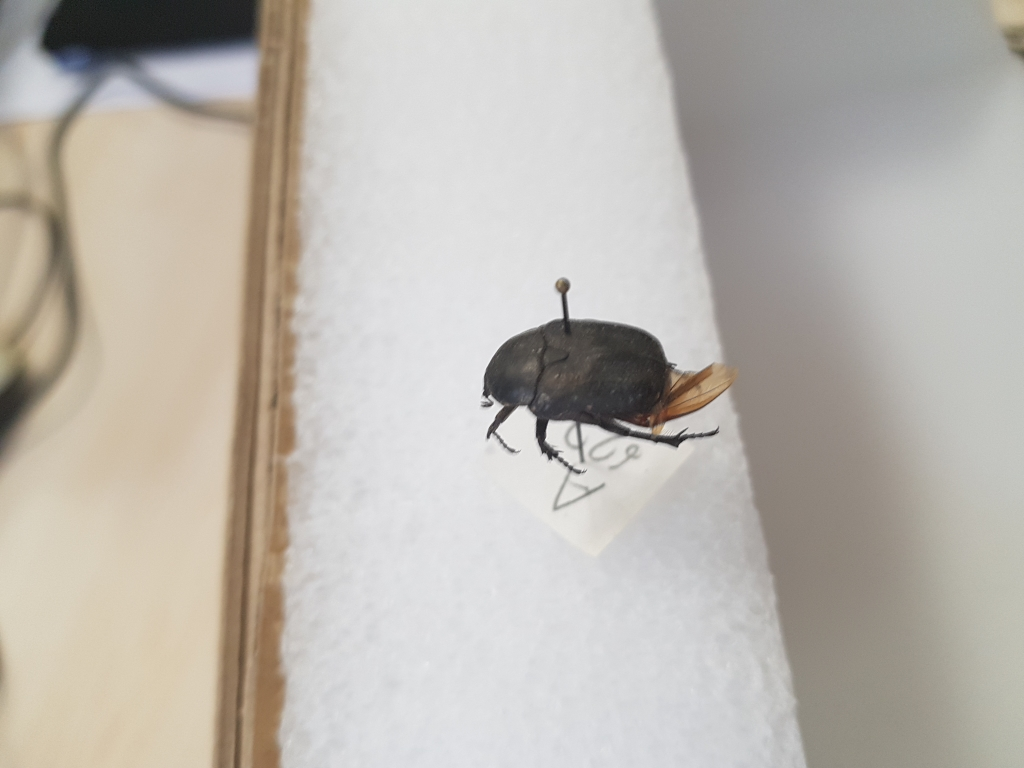Protaetia_asiatica: (478, 308, 741, 477)
